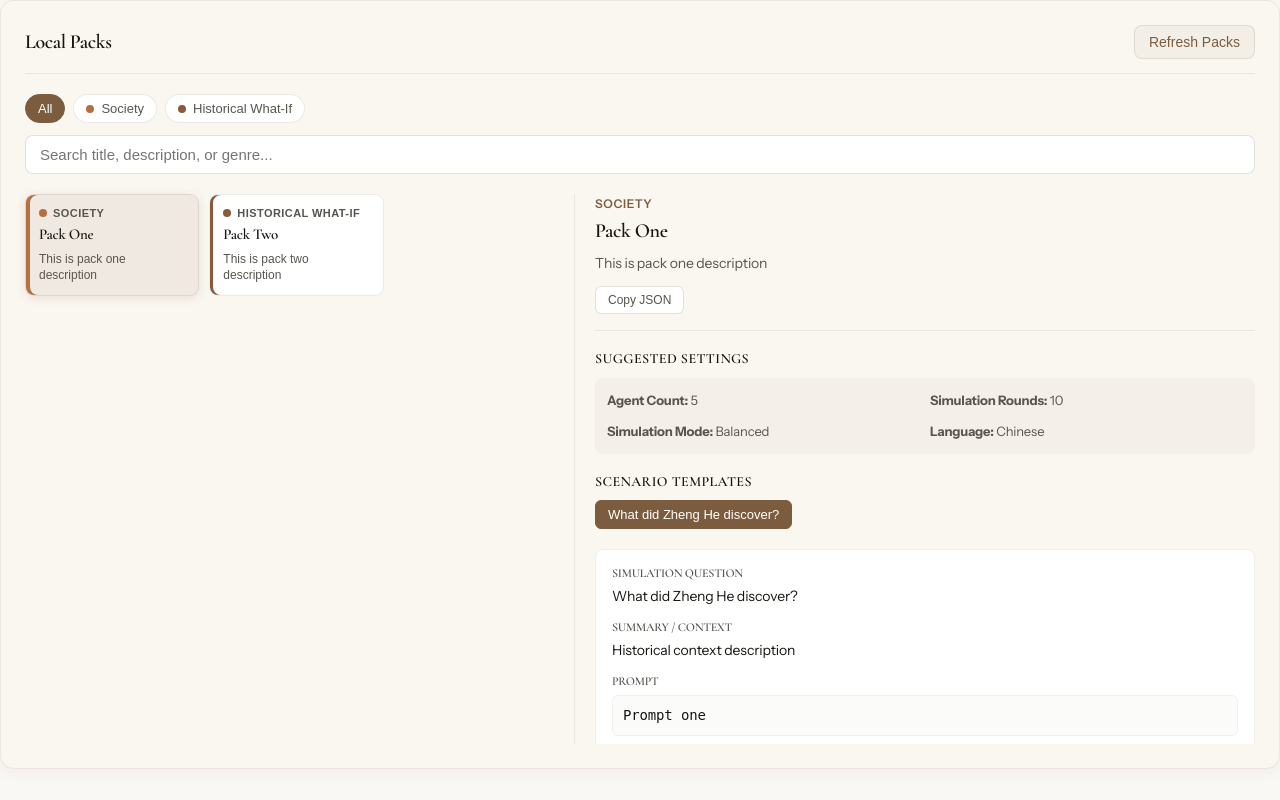
it: LocalPackPicker › switches preview to a newly clicked pack after the first is auto-selected (P0-3)
Note: Clicking the not-yet-selected pack-two must switch the preview to it (proves the click path, not auto-select)
Click the button "Historical What-If Pack Two This is pack two description": (296, 245) [209, 194, 384, 296]
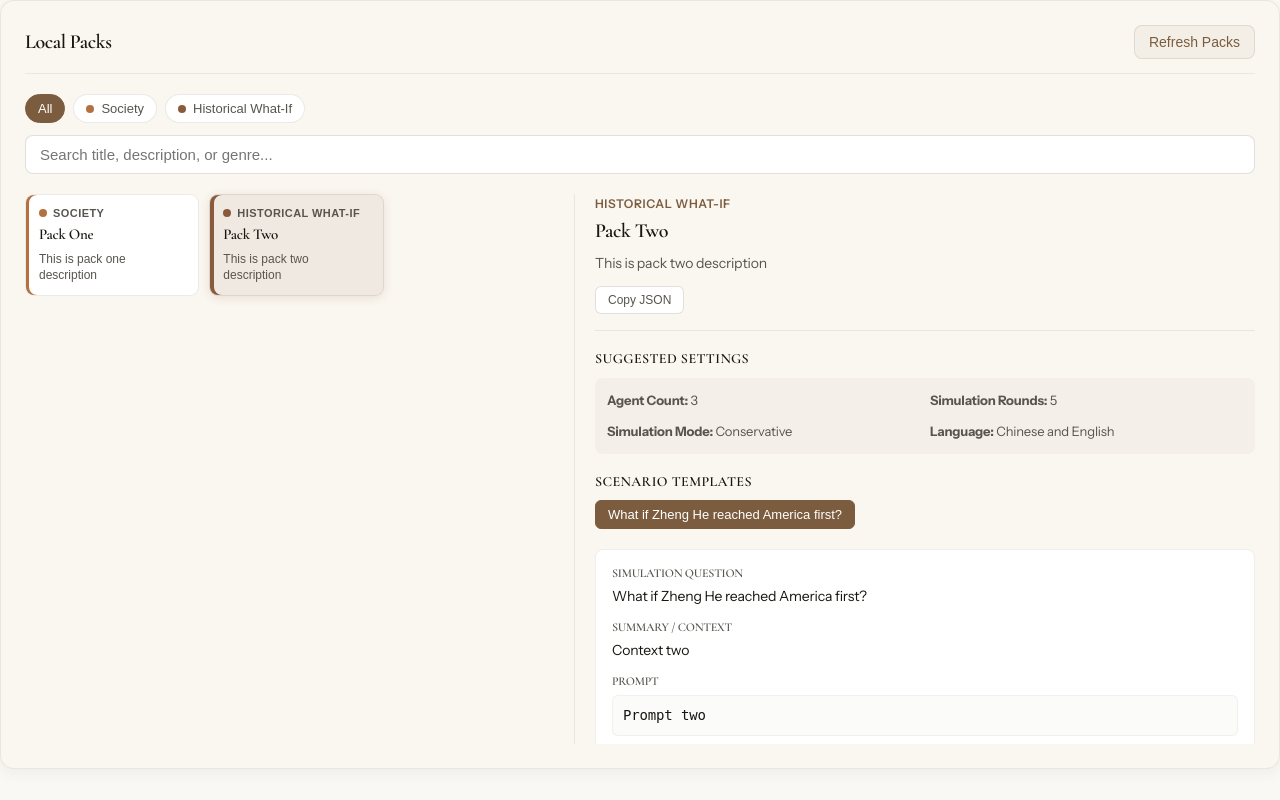
expect the button "What if Zheng He reached America first?" is shown: met, box [595, 500, 855, 529]
